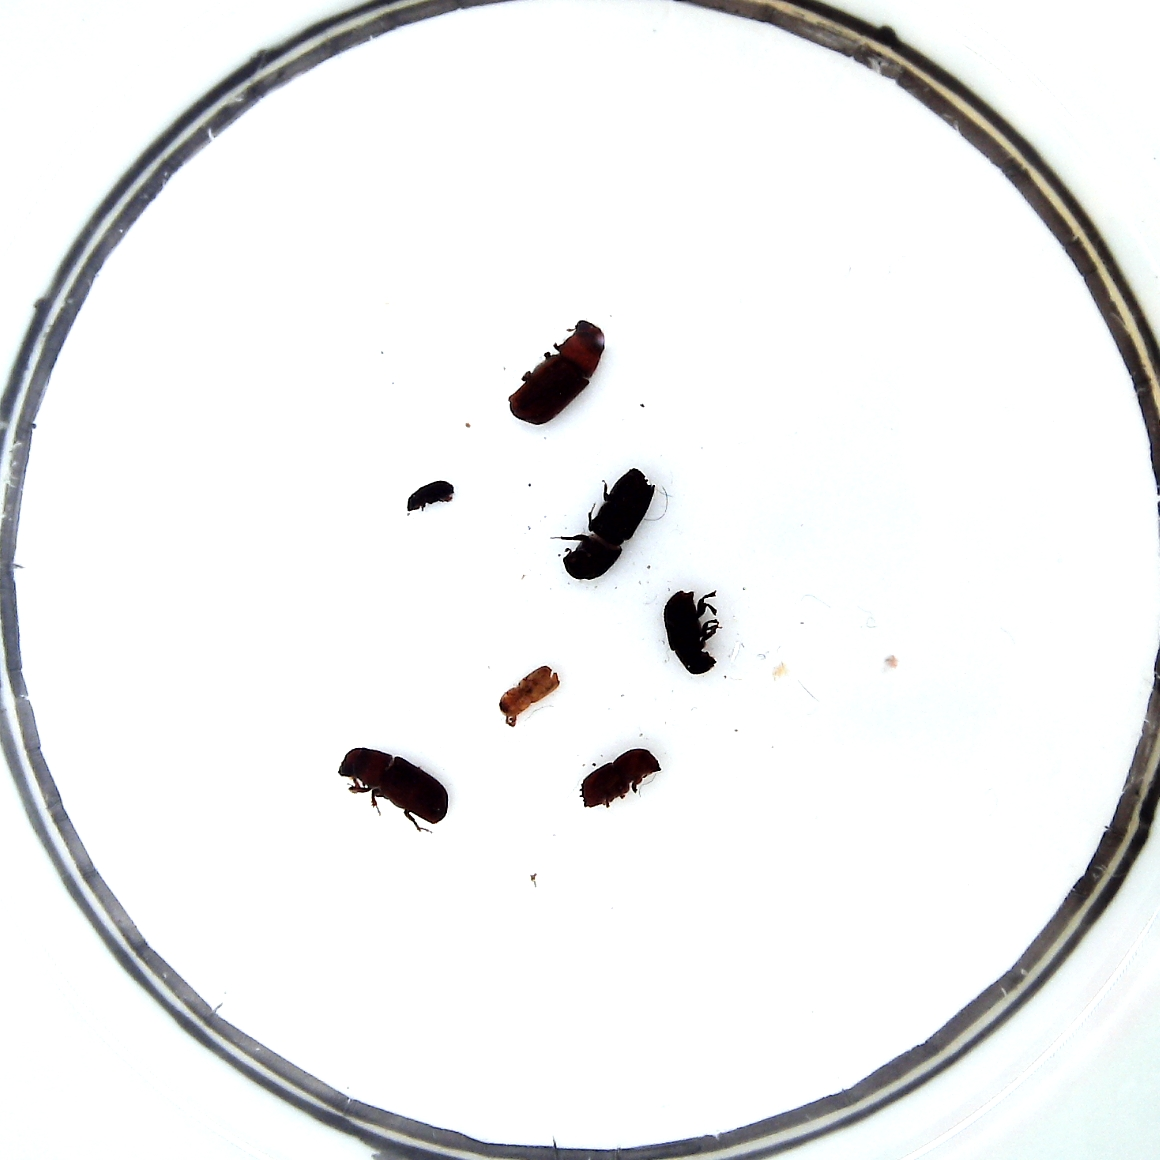Boerner: (563, 470, 656, 582)
Leconte: (508, 320, 605, 424), (338, 747, 449, 824), (407, 480, 455, 512)
armandi: (665, 590, 718, 673)
coleoptera: (497, 665, 560, 718)
linnaeus: (579, 748, 662, 809)
